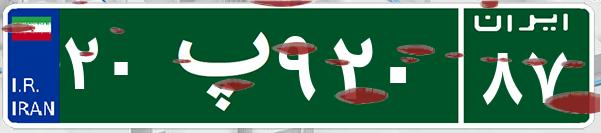0: (385, 28, 445, 110), (110, 28, 158, 105)
2: (330, 28, 385, 110), (57, 26, 110, 107)
7: (525, 38, 570, 115)
8: (475, 38, 525, 113)
9: (273, 28, 330, 110)
پ: (158, 15, 273, 115)
